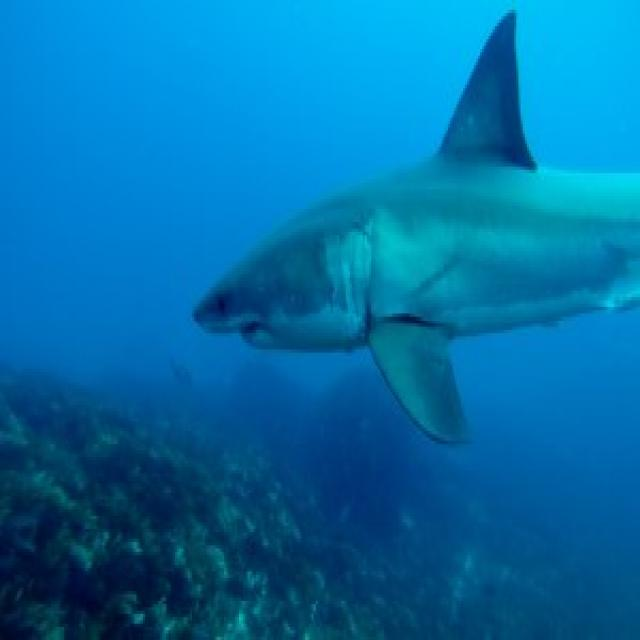Shark: (180, 7, 640, 441)
